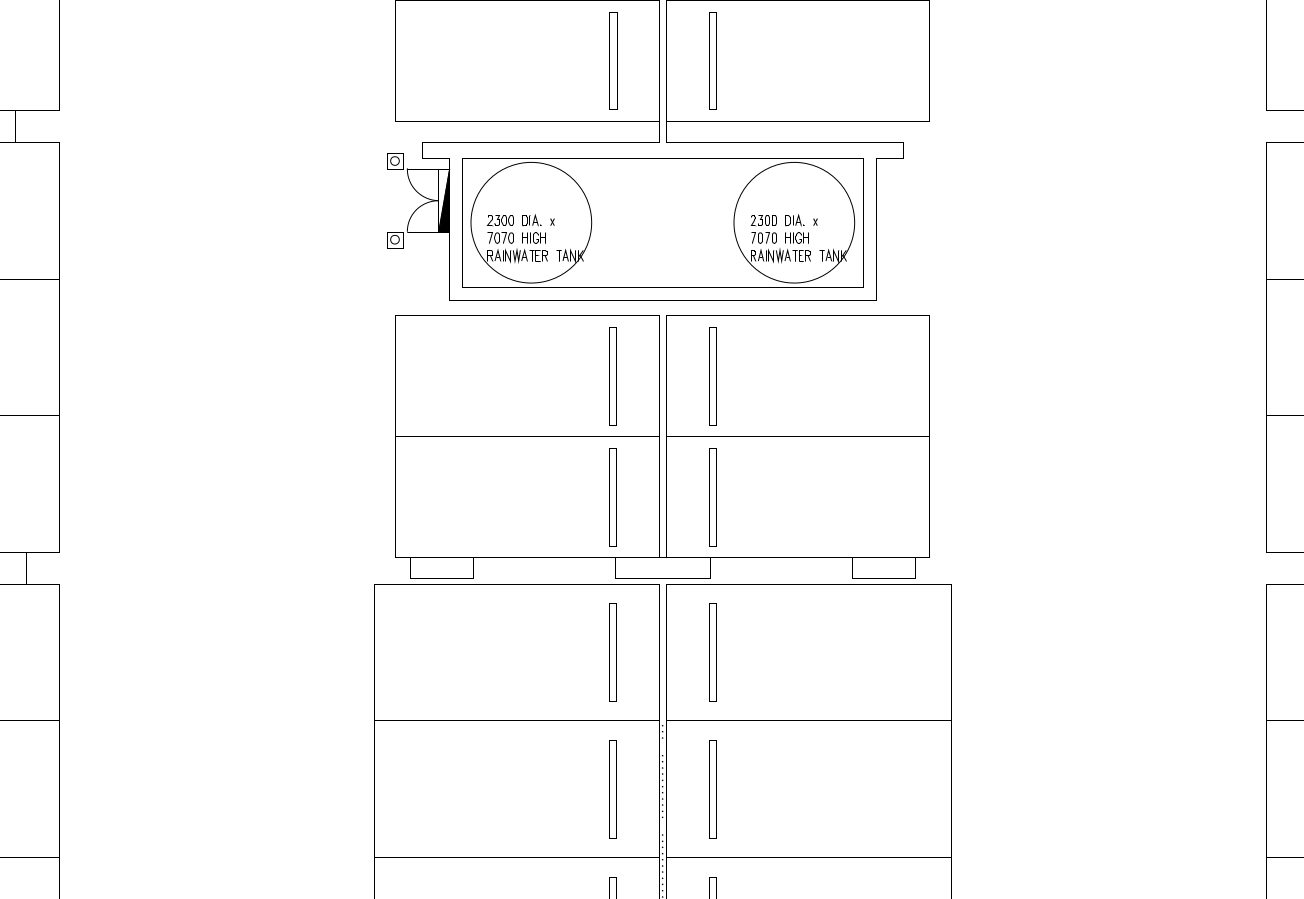door: (405, 165, 438, 201), (404, 198, 437, 234)
